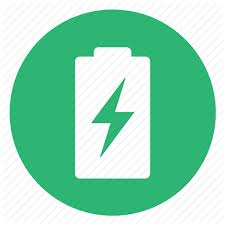charging sign: (66, 37, 174, 198)
